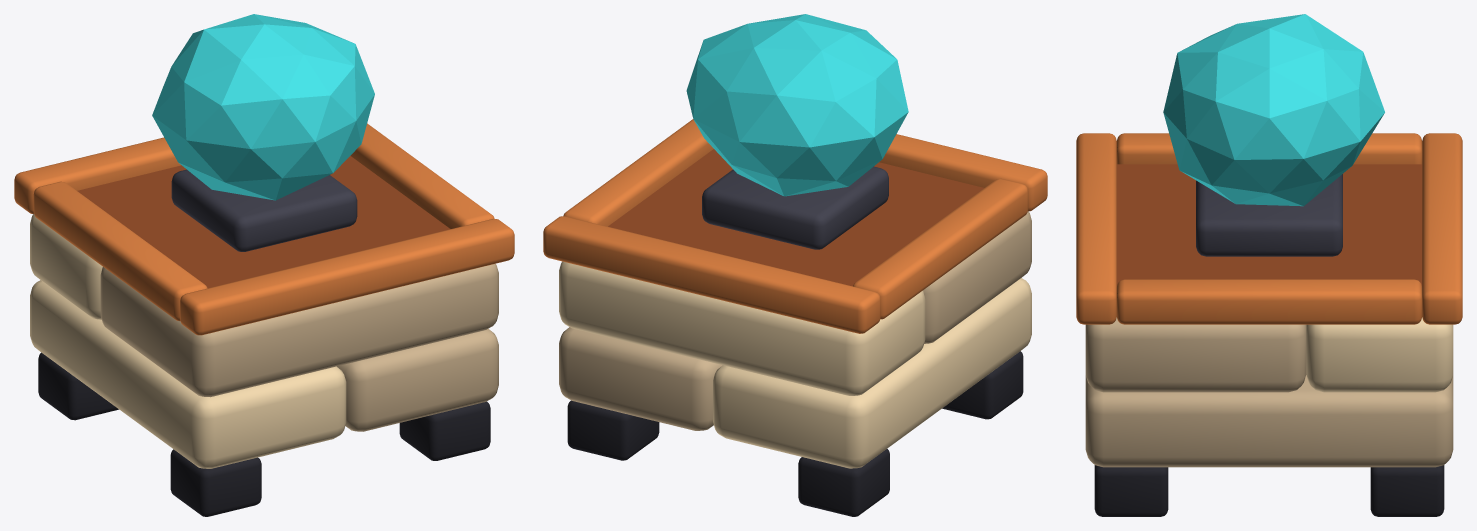
Rendered from OreStand.fbx.
3 renders of one model, left to right at view 1: azimuth 30°, elevation 25°; view 2: azimuth 150°, elevation 25°; view 3: azimuth 270°, elevation 25°, orthographic. The views are drawn at different scales.
Parts seen in each view (by area): view 1: Ore, CourseHigh, CourseLow, TrayFloor, TrayRail, CourseLow.001, Seat, TrayRail.001, TrayRail.003, TrayRail.002, Foot, CourseHigh.001 (+2 smaller); view 2: Ore, CourseHigh.001, CourseLow, TrayFloor, TrayRail.002, CourseLow.001, Seat, TrayRail.001, CourseHigh, TrayRail.003, TrayRail, Foot.001 (+2 smaller); view 3: Ore, CourseLow.001, TrayFloor, CourseHigh, TrayRail.003, CourseHigh.001, Seat, TrayRail, TrayRail.002, TrayRail.001, Foot.002, Foot.003.
Part boxes in pixels (left/top/right/bottom): Ore: left=152, top=14, right=374, bottom=200; CourseHigh: left=100, top=263, right=498, bottom=397; CourseLow: left=30, top=280, right=346, bottom=468; TrayFloor: left=77, top=156, right=450, bottom=288; TrayRail: left=180, top=218, right=514, bottom=335; CourseLow.001: left=337, top=328, right=498, bottom=431; Seat: left=171, top=169, right=357, bottom=251; TrayRail.001: left=33, top=181, right=207, bottom=321; TrayRail.003: left=350, top=123, right=494, bottom=228; TrayRail.002: left=14, top=137, right=181, bottom=213; Foot: left=170, top=449, right=261, bottom=516; CourseHigh.001: left=30, top=214, right=102, bottom=319; Ore: left=686, top=14, right=908, bottom=196; CourseHigh.001: left=559, top=261, right=925, bottom=395; CourseLow: left=713, top=278, right=1031, bottom=468; TrayFloor: left=608, top=149, right=984, bottom=286; TrayRail.002: left=543, top=216, right=880, bottom=333; CourseLow.001: left=559, top=327, right=722, bottom=430; Seat: left=702, top=166, right=888, bottom=249; TrayRail.001: left=853, top=178, right=1028, bottom=319; CourseHigh: left=923, top=211, right=1031, bottom=343; TrayRail.003: left=563, top=119, right=713, bottom=226; TrayRail: left=879, top=134, right=1047, bottom=211; Foot.001: left=798, top=449, right=889, bottom=516; Ore: left=1163, top=14, right=1384, bottom=206; CourseLow.001: left=1085, top=375, right=1453, bottom=467; TrayFloor: left=1116, top=164, right=1422, bottom=286; CourseHigh: left=1085, top=317, right=1306, bottom=392; TrayRail.003: left=1116, top=279, right=1422, bottom=324; CourseHigh.001: left=1306, top=317, right=1453, bottom=392; Seat: left=1196, top=174, right=1342, bottom=256; TrayRail: left=1076, top=133, right=1116, bottom=324; TrayRail.002: left=1422, top=133, right=1462, bottom=324; TrayRail.001: left=1116, top=133, right=1422, bottom=164; Foot.002: left=1094, top=465, right=1168, bottom=516; Foot.003: left=1370, top=465, right=1444, bottom=516.
Size of the model in its own units: 2.1 by 2.5 by 2.1.
